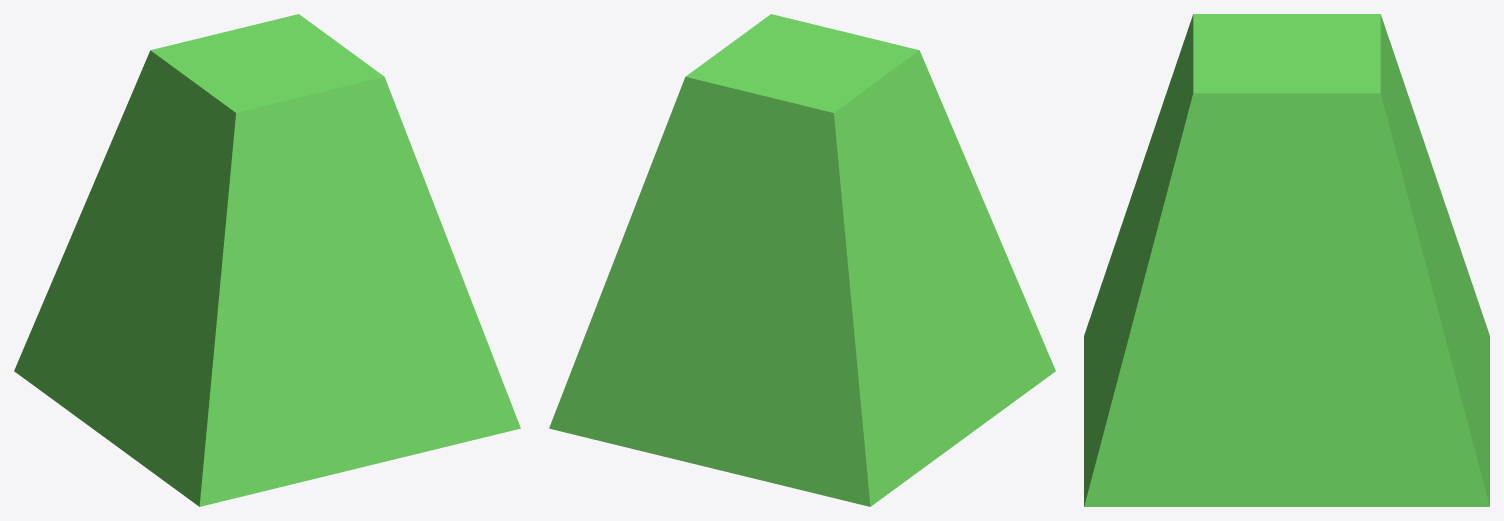
The model's file is SM_BushPlaceHolder.003.fbx.
3 renders of one model, left to right at view 1: azimuth 30°, elevation 25°; view 2: azimuth 150°, elevation 25°; view 3: azimuth 270°, elevation 25°, orthographic. The views are drawn at different scales.
Parts seen in each view (by area): view 1: SM_BushPlaceHolder.003; view 2: SM_BushPlaceHolder.003; view 3: SM_BushPlaceHolder.003.
Part boxes in pixels (bbox=[...]): SM_BushPlaceHolder.003: bbox=[14, 14, 520, 506]; SM_BushPlaceHolder.003: bbox=[549, 14, 1055, 506]; SM_BushPlaceHolder.003: bbox=[1084, 14, 1489, 506].
Size of the model in its own units: 0.558 by 0.558 by 0.558.
